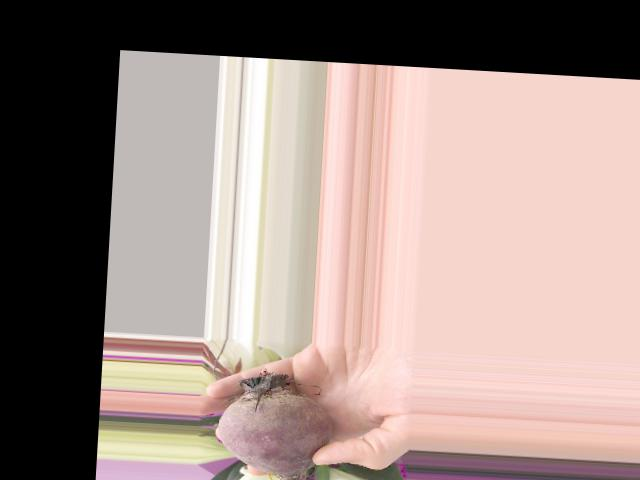beet: (213, 366, 334, 480)
